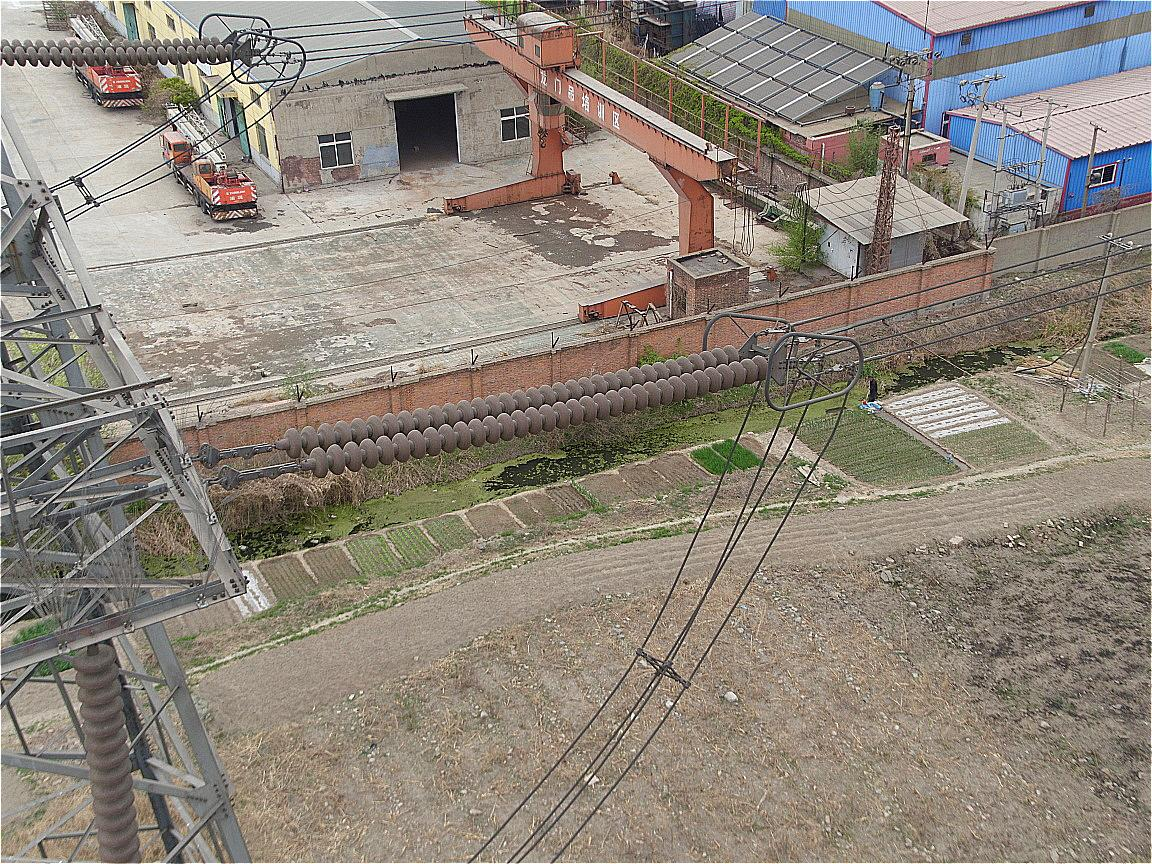insultor1: (283, 345, 772, 477), (75, 644, 162, 861), (1, 36, 236, 65)
